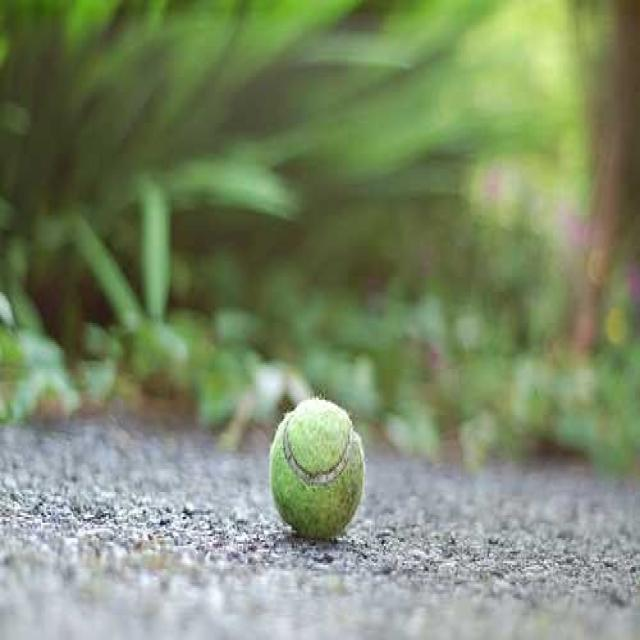Tennis_Ball: (272, 401, 358, 541)
